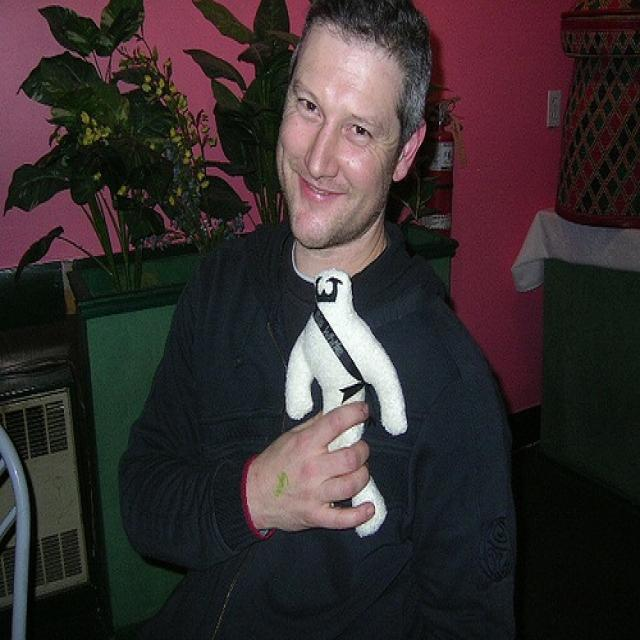pottedplant: (5, 2, 206, 295), (180, 5, 330, 251)
